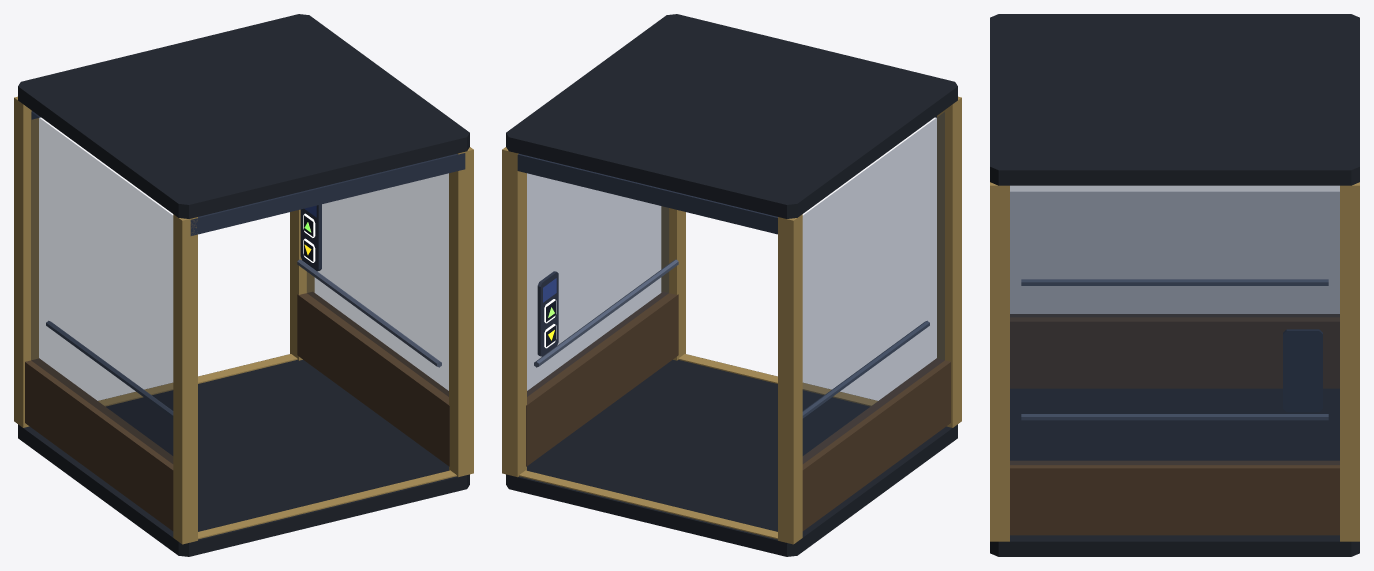
The model's file is res_elevator_cab.glb.
The picture shows the model from 3 angles, left to right: view 1: azimuth 30°, elevation 25°; view 2: azimuth 150°, elevation 25°; view 3: azimuth 270°, elevation 25°; orthographic projection. The views are drawn at different scales.
Parts seen in each view (by area): view 1: marble_deck, panoramic_side, brass_pier, walnut_dado, control_face, handrail; view 2: marble_deck, panoramic_side, brass_pier, walnut_dado, control_face, handrail; view 3: marble_deck, panoramic_side, walnut_dado, brass_pier, handrail, control_face.
Boxes of the visible parts, x1=… form: marble_deck: x1=18, y1=14, x2=469, y2=556; panoramic_side: x1=31, y1=112, x2=448, y2=463; brass_pier: x1=14, y1=96, x2=473, y2=544; walnut_dado: x1=25, y1=291, x2=449, y2=530; control_face: x1=31, y1=111, x2=465, y2=271; handrail: x1=46, y1=259, x2=441, y2=417; marble_deck: x1=506, y1=14, x2=957, y2=556; panoramic_side: x1=527, y1=112, x2=944, y2=463; brass_pier: x1=502, y1=96, x2=961, y2=544; walnut_dado: x1=526, y1=291, x2=950, y2=530; control_face: x1=517, y1=116, x2=936, y2=356; handrail: x1=534, y1=259, x2=929, y2=417; marble_deck: x1=990, y1=14, x2=1359, y2=556; panoramic_side: x1=1010, y1=186, x2=1339, y2=464; walnut_dado: x1=1010, y1=314, x2=1339, y2=535; brass_pier: x1=990, y1=182, x2=1359, y2=541; handrail: x1=1021, y1=279, x2=1328, y2=420; control_face: x1=1283, y1=329, x2=1322, y2=412.
Size of the model in its own units: 2.6 by 3 by 2.6.
